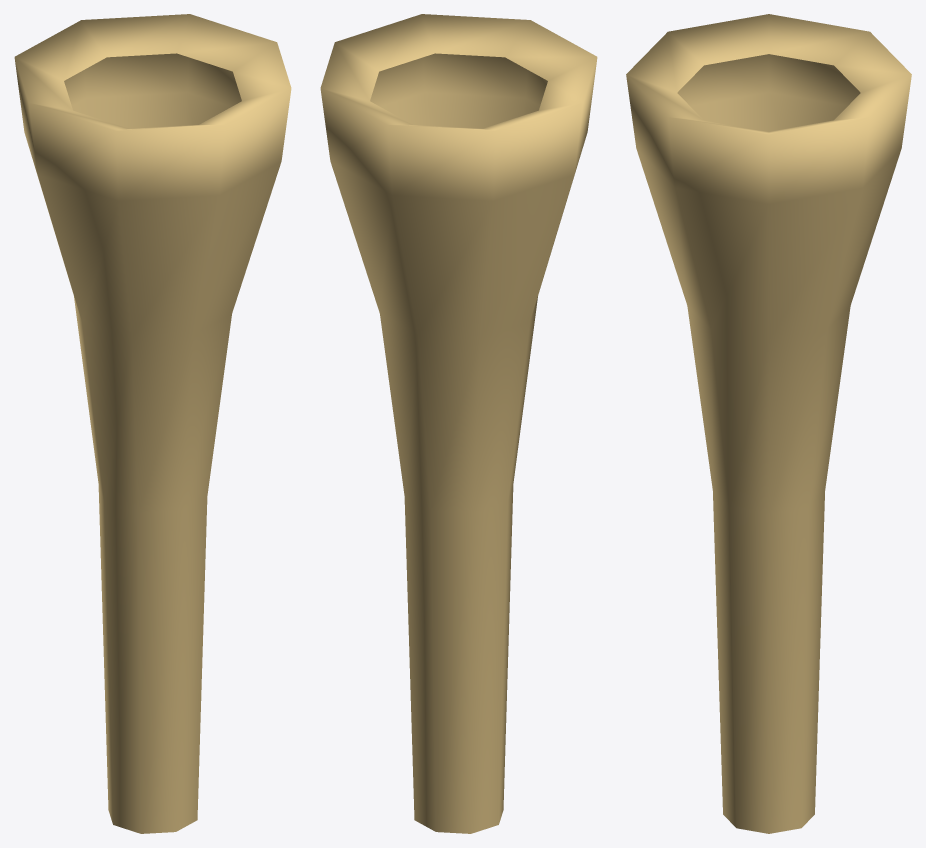
The model's file is prop-mouthpiece-blank.fbx.
3 renders of one model, left to right at view 1: azimuth 30°, elevation 25°; view 2: azimuth 150°, elevation 25°; view 3: azimuth 270°, elevation 25°, orthographic.
Parts seen in each view (by area): view 1: prop-mouthpiece-blank; view 2: prop-mouthpiece-blank; view 3: prop-mouthpiece-blank.
Part boxes in pixels (left/top/right/bottom): prop-mouthpiece-blank: left=14, top=14, right=291, bottom=833; prop-mouthpiece-blank: left=320, top=14, right=597, bottom=833; prop-mouthpiece-blank: left=626, top=14, right=911, bottom=833.
Size of the model in its own units: 2.8 by 8 by 2.8.
